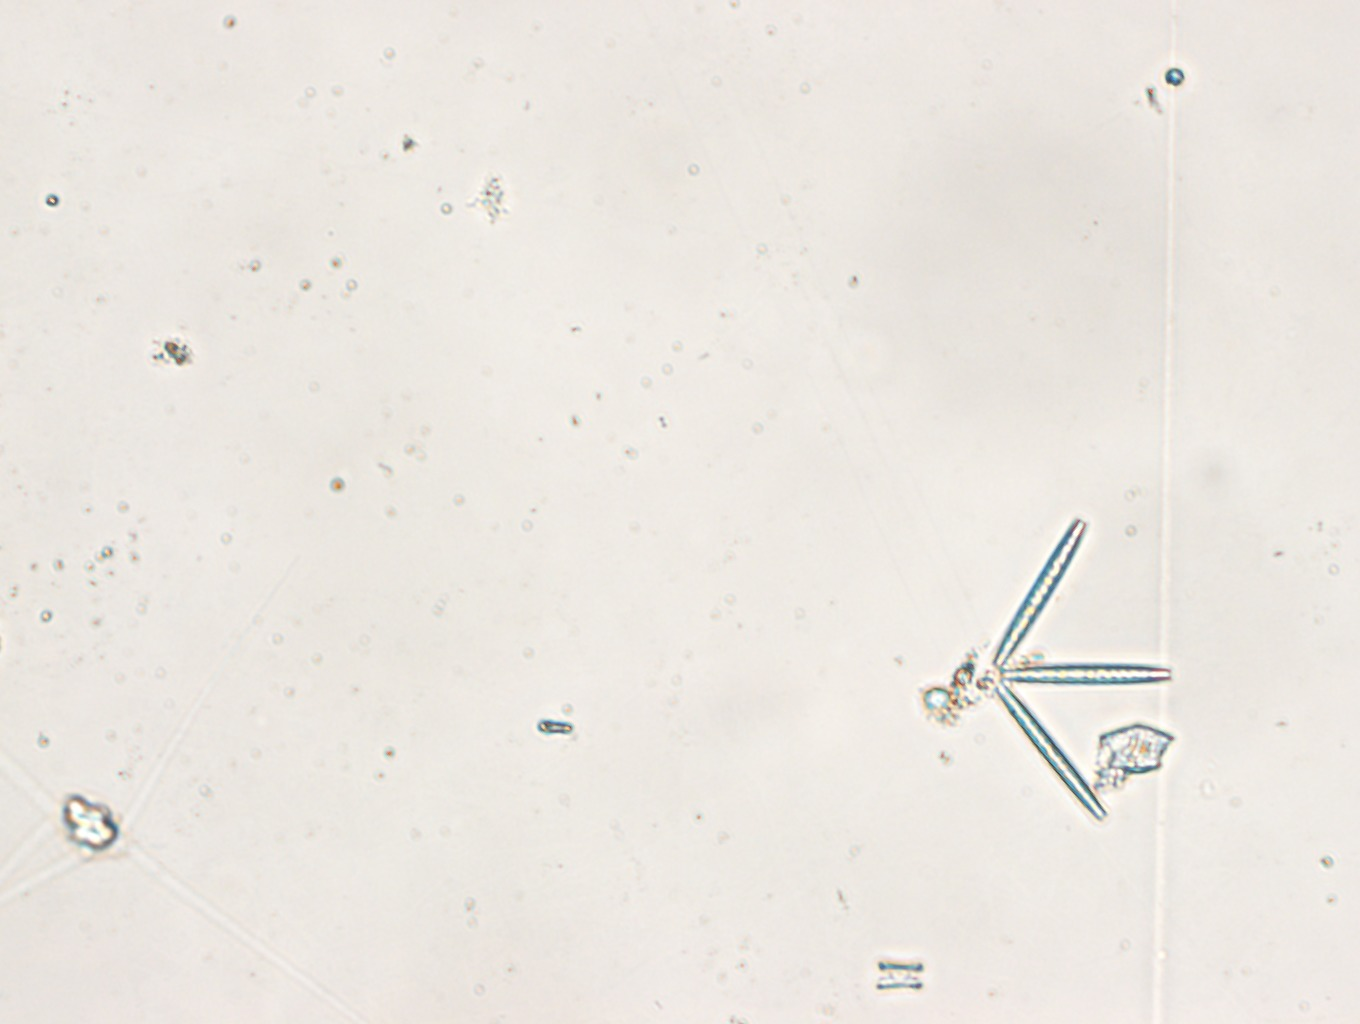thalassionema nitzschioides: (985, 514, 1172, 824)
